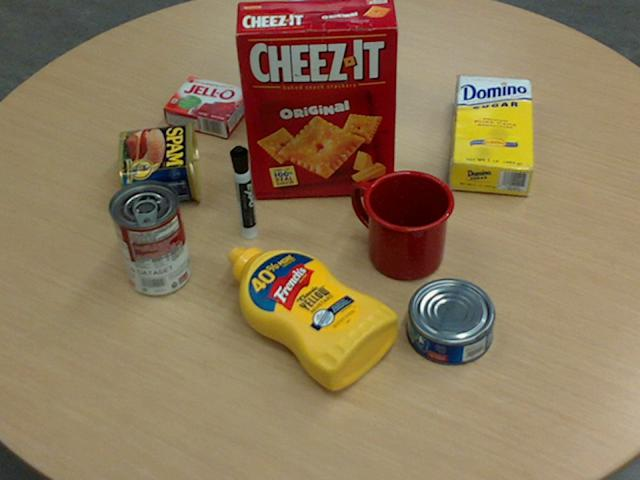cracker_box: (235, 0, 398, 196)
gelatin_box: (161, 74, 250, 137)
large_marker: (229, 145, 257, 240)
master_chef_can: (287, 0, 373, 124)
mug: (353, 169, 454, 279)
mustard_bottle: (226, 247, 397, 389)
potted_meat_can: (118, 119, 200, 205)
sugar_box: (450, 75, 534, 195)
tomato_soup_can: (107, 178, 189, 295)
tuna_fish_can: (407, 278, 495, 364)
